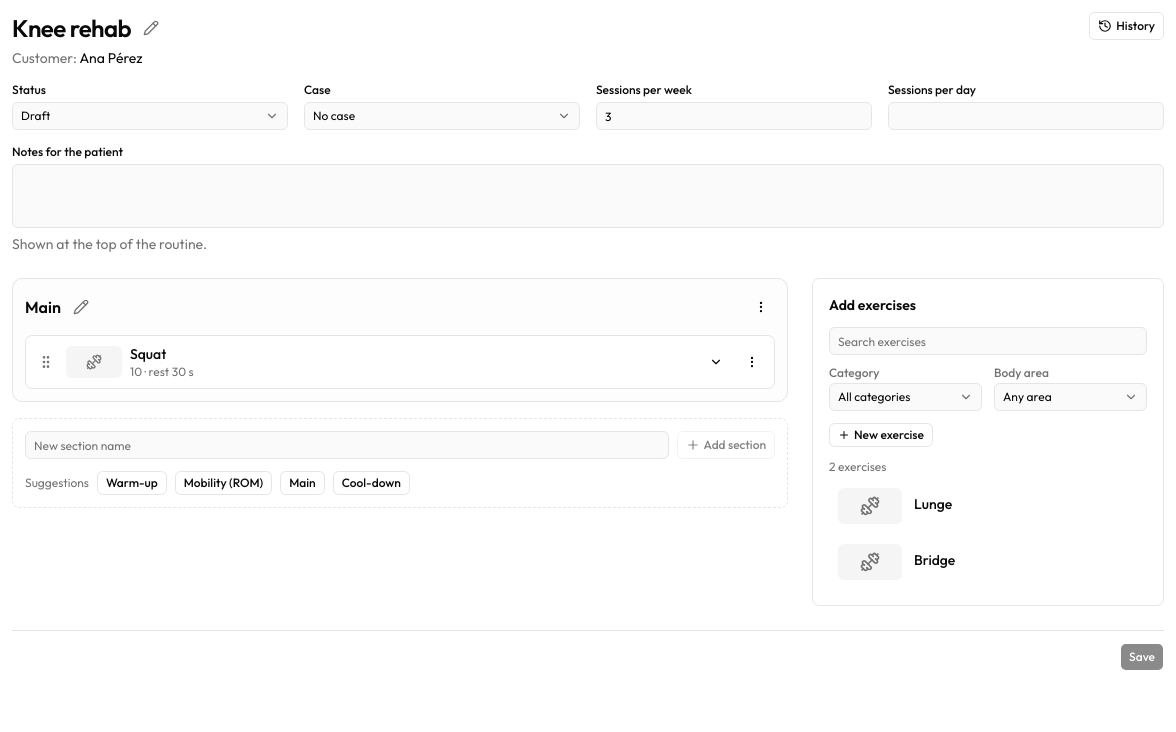
RoutineEditor › adds an exercise picked from the picker as a new row and stays open
Click the button "Lunge" at (870,506), box top-left (829, 479), bottom-right (1147, 533)
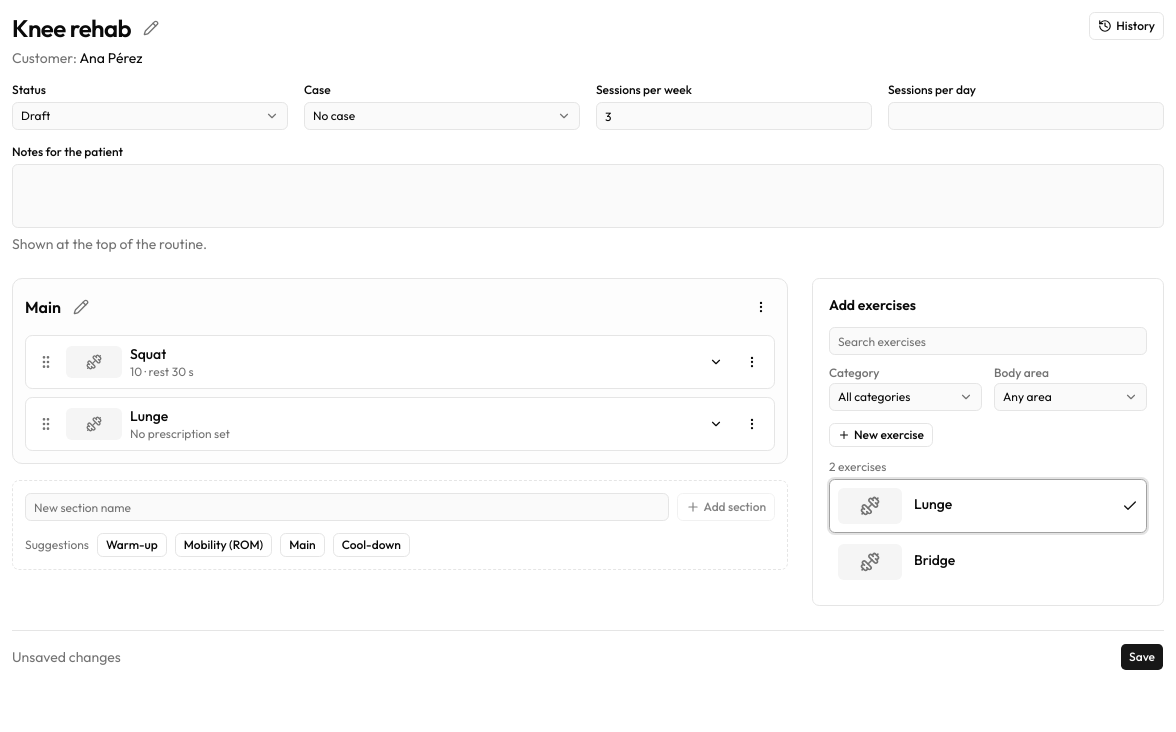
Click the button "Bridge" at (870,562), box top-left (829, 535), bottom-right (1147, 589)
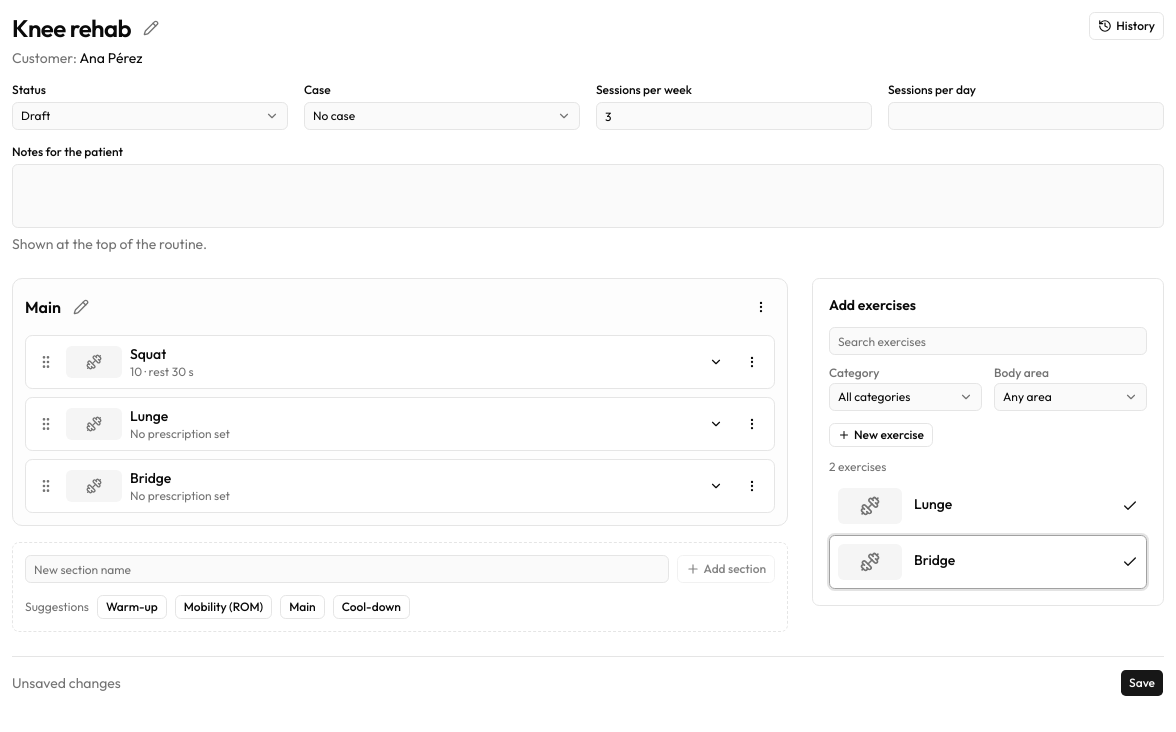
Expected: the element with test id "item-row" shows "Lunge", top-left (130, 407), bottom-right (168, 425)
Expected: the number of elements with test id "item-row" is 3, top-left (25, 335), bottom-right (775, 389); top-left (25, 397), bottom-right (775, 451); top-left (25, 459), bottom-right (775, 513)
Expected: the element with test id "item-row" shows "Bridge", top-left (130, 469), bottom-right (171, 487)
